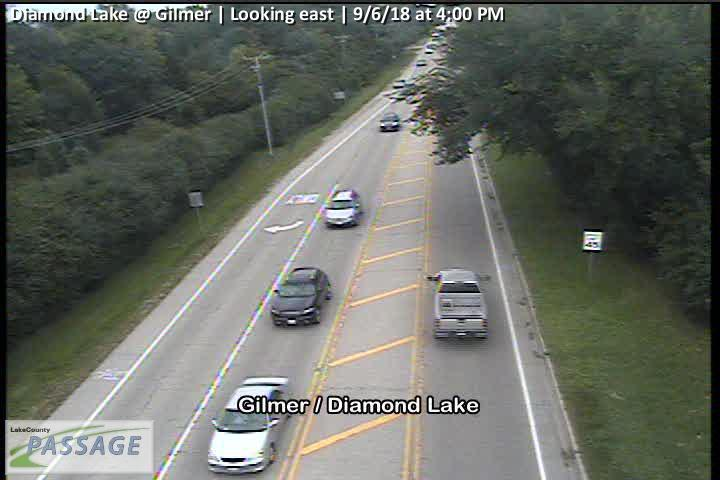SUV: (424, 269, 491, 341), (269, 267, 331, 326), (325, 189, 362, 229), (379, 112, 400, 131)
Sedan: (207, 376, 291, 475)
